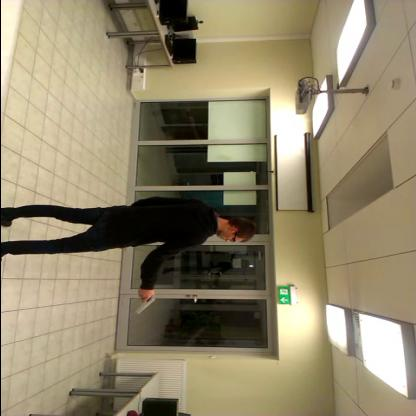Pistol: (128, 294, 158, 316)
